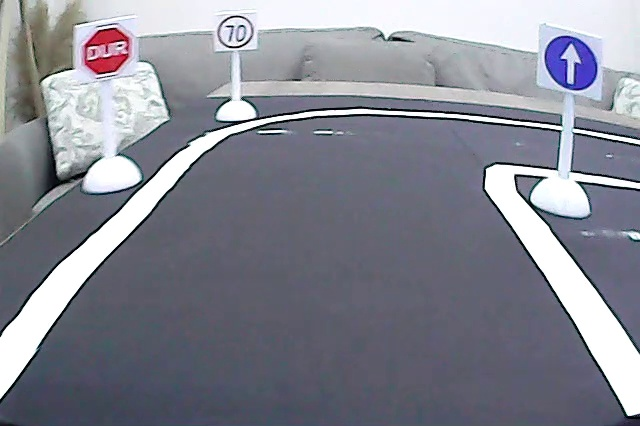speed limit 70: (217, 12, 256, 50)
stop sign: (79, 24, 134, 79)
